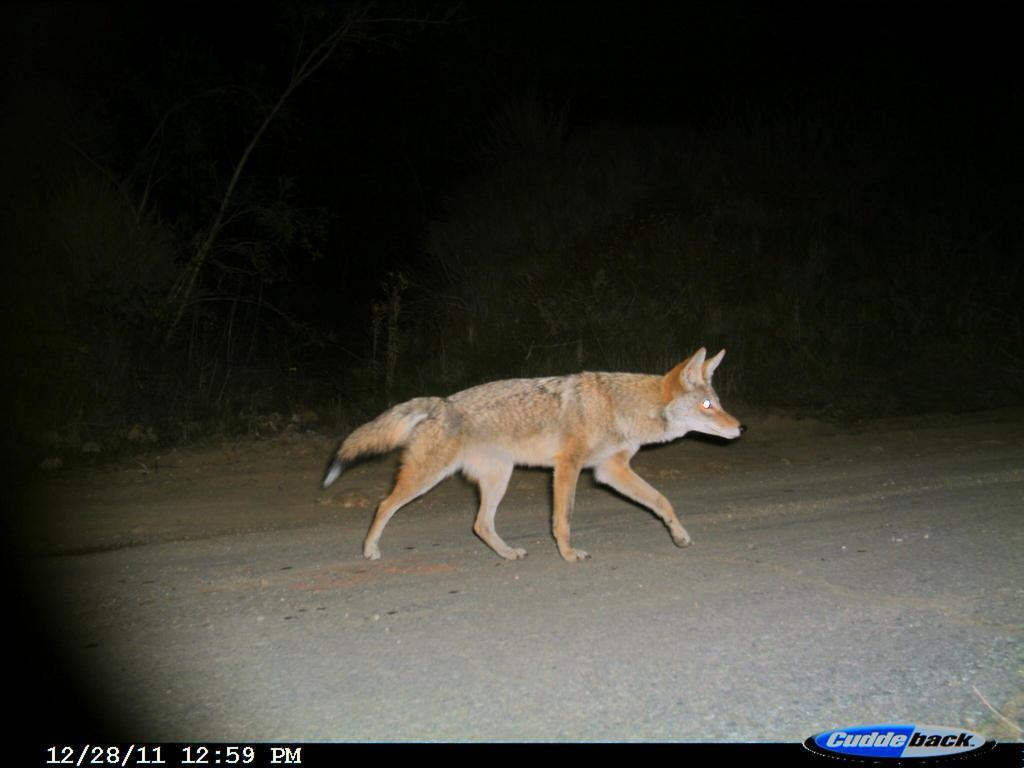coyote: (326, 335, 752, 570)
